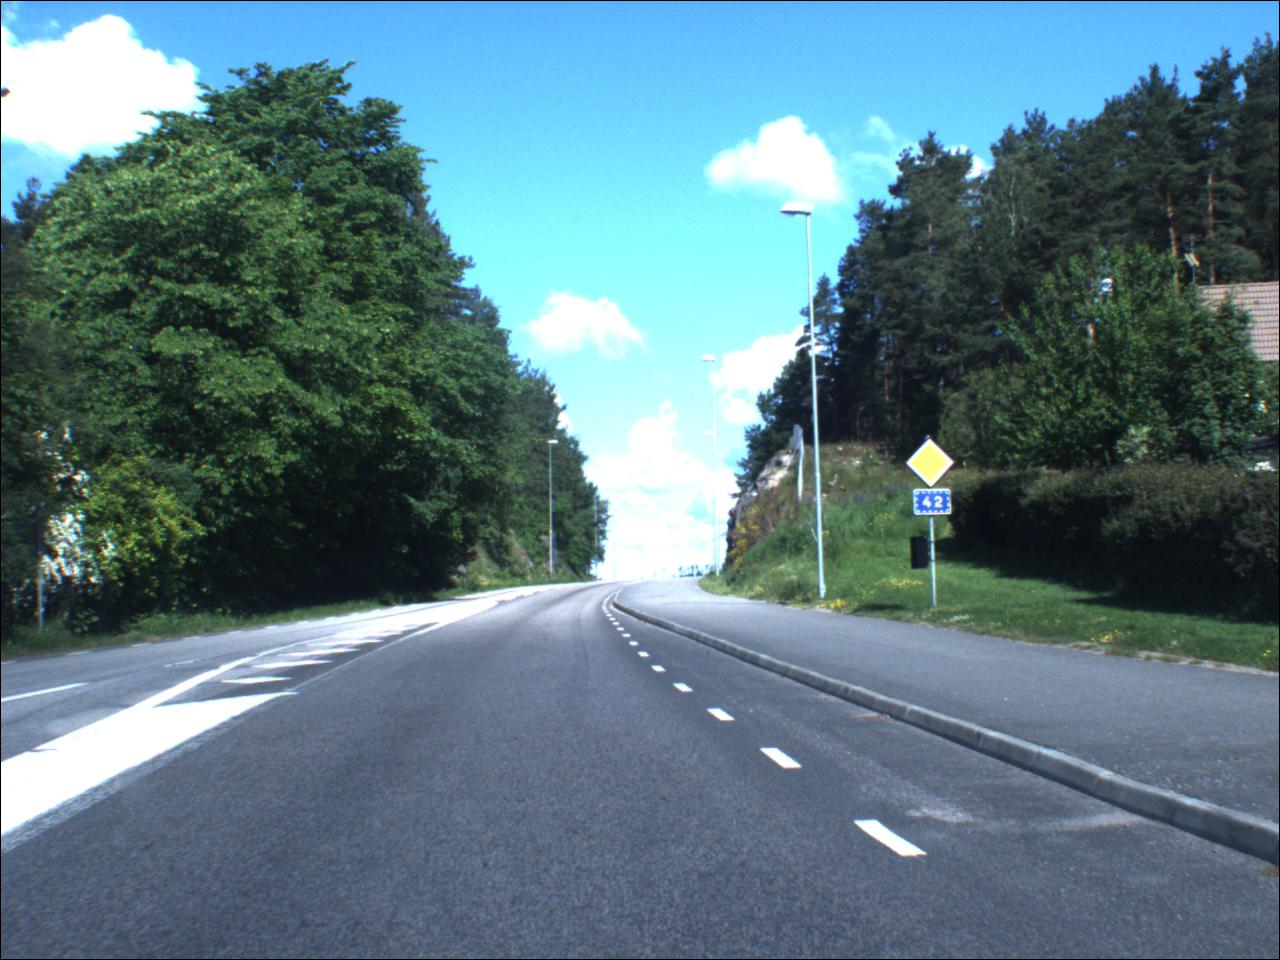PRIORITY_ROAD: (904, 435, 956, 490)
